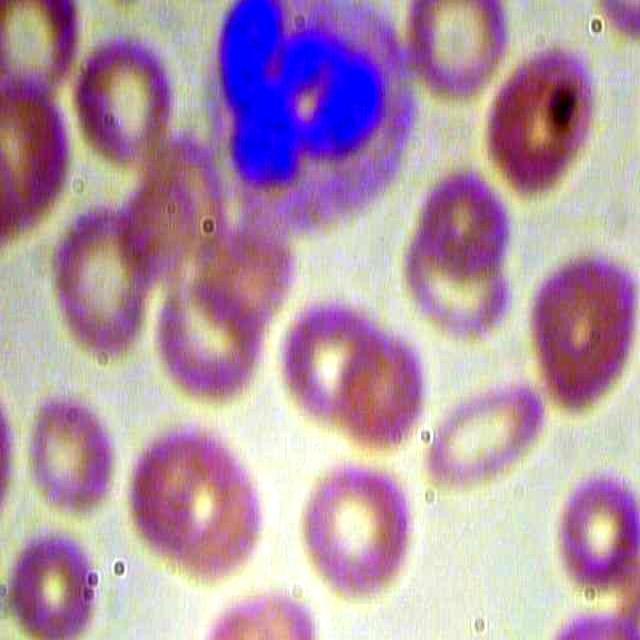RBC: (519, 252, 640, 420), (480, 36, 601, 204), (144, 252, 273, 407), (414, 367, 549, 502), (293, 460, 416, 599), (72, 25, 174, 174), (122, 425, 237, 551), (327, 333, 429, 458), (26, 390, 124, 514), (554, 456, 640, 591), (3, 521, 99, 640), (402, 1, 510, 104)
